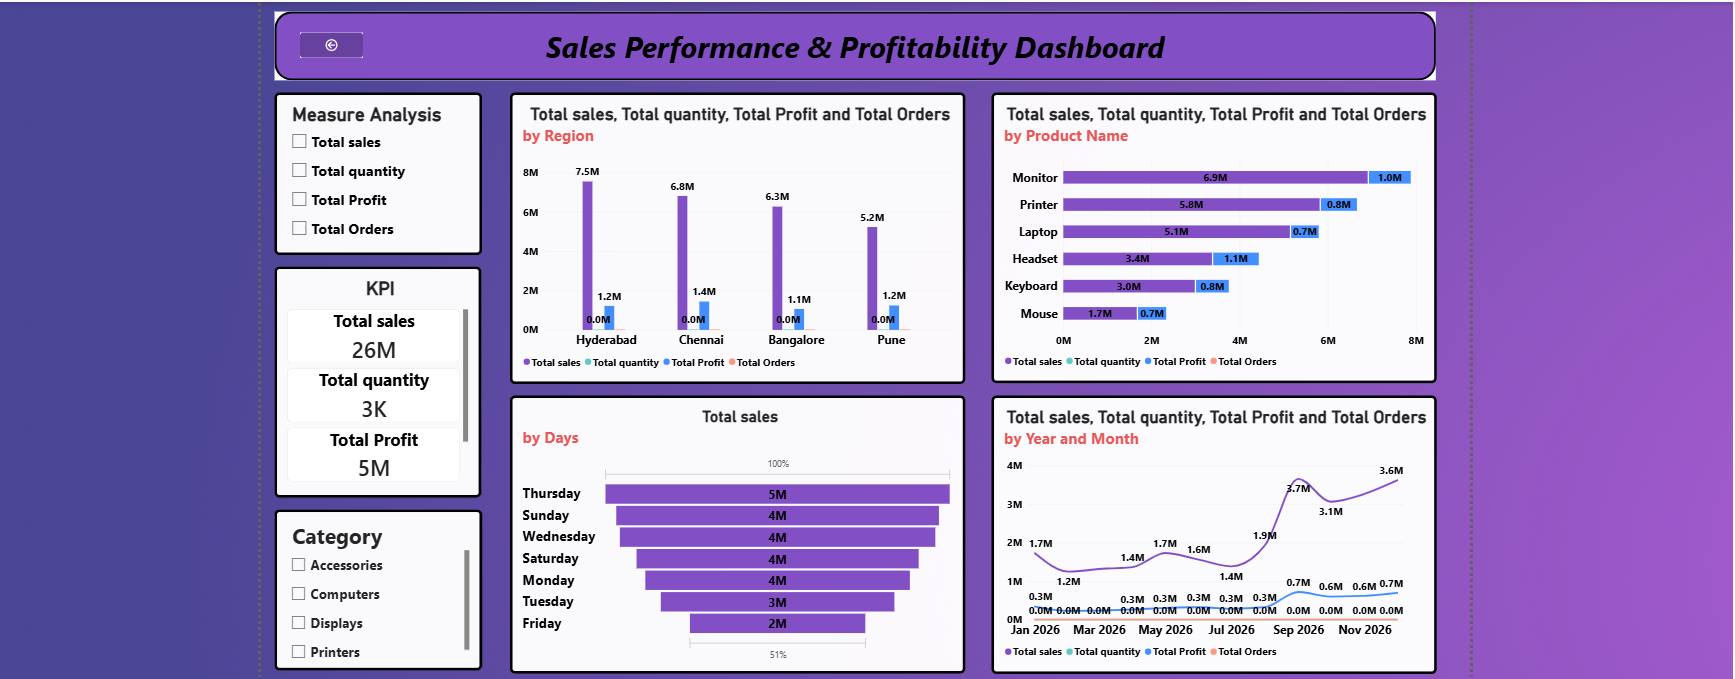

What the dashboard file says about the page in this screenshot:
{"tool":"powerbi","page":{"name":"Performance","canvas":[1920,1080],"ordinal":0},"visuals":[{"type":"slicer","fields":{"Values":["Parameter1.Parameter1"]},"box":[21.5,145.5,329.3,257.7],"z":0},{"type":"clusteredColumnChart","fields":{"Category":["Sales Raw Data.Region"],"Y":["Measure Table.Total sales","Measure Table.Total quantity","Measure Table.Total Profit","Measure Table.Total Orders"]},"box":[396.1,145.5,722.9,462.9],"z":1000},{"type":"barChart","fields":{"Category":["Sales Raw Data.Product Name"],"Y":["Measure Table.Total sales","Measure Table.Total quantity","Measure Table.Total Profit","Measure Table.Total Orders"]},"box":[1158.6,145.7,706.8,461.5],"z":2000},{"type":"funnel","fields":{"Category":["Sales Raw Data.Days "],"Y":["Measure Table.Total sales"]},"box":[395.9,626.6,722.9,441.4],"z":3000},{"type":"lineChart","fields":{"Category":["Sales Raw Data.Order Date.Variation.Date Hierarchy.Year","Sales Raw Data.Order Date.Variation.Date Hierarchy.Month"],"Y":["Measure Table.Total sales","Measure Table.Total quantity","Measure Table.Total Profit","Measure Table.Total Orders"]},"box":[1158.6,626.6,706.8,442],"z":4000},{"type":"shape","box":[21.9,17,1843.5,109.3],"z":5000},{"type":"cardVisual","title":"KPI ","fields":{"Data":["Measure Table.Total sales","Measure Table.Total quantity","Measure Table.Total Profit","Measure Table.Total Orders"]},"box":[21.9,422.6,327.9,366.8],"z":6000},{"type":"slicer","fields":{"Values":["Products.Category"]},"box":[21.5,806.4,329.3,255.3],"z":7000},{"type":"actionButton","box":[61.4,50,100,40],"z":8000}]}

Visuals, with their boxes on the page's 1920x1080 design canvas (x1, y1, x2, y2). These are canvas units, not pixel positions in the 1735x679 screenshot, which may show the page scaled, cropped or inside an application window:
slicer - Parameter1.Parameter1: <region>22, 146, 351, 403</region>
clusteredColumnChart - Sales Raw Data.Region x Measure Table.Total sales: <region>396, 146, 1119, 608</region>
barChart - Sales Raw Data.Product Name x Measure Table.Total sales: <region>1159, 146, 1865, 607</region>
funnel - Sales Raw Data.Days  x Measure Table.Total sales: <region>396, 627, 1119, 1068</region>
lineChart - Sales Raw Data.Order Date.Variation.Date Hierarchy.Year x Sales Raw Data.Order Date.Variation.Date Hierarchy.Month: <region>1159, 627, 1865, 1069</region>
shape: <region>22, 17, 1865, 126</region>
"KPI " cardVisual: <region>22, 423, 350, 789</region>
slicer - Products.Category: <region>22, 806, 351, 1062</region>
actionButton: <region>61, 50, 161, 90</region>
